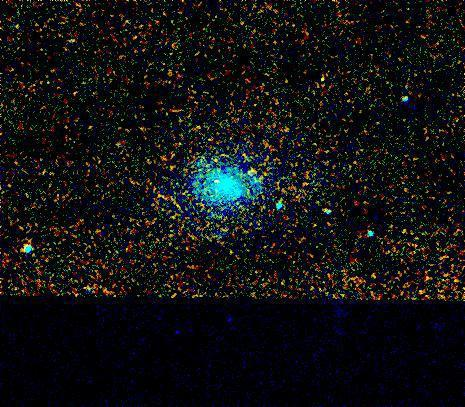star: (240, 157, 270, 187)
